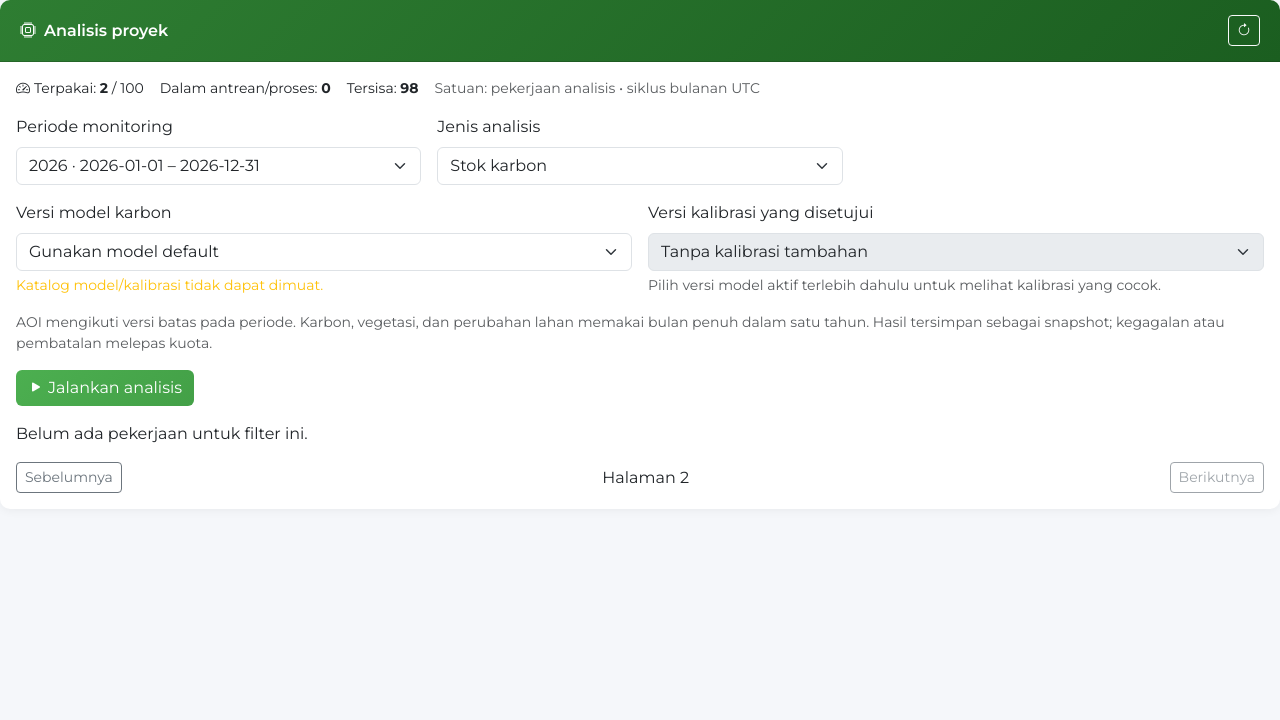
Test: recovers from an empty trailing page and localizes job status
Expected: the text "Belum ada pekerjaan untuk filter ini." is shown, [16,424,308,443]
Expected: the button "Berikutnya" is disabled, [1170,462,1264,493]
Click the button "Sebelumnya": (69, 478) [16,462,122,493]
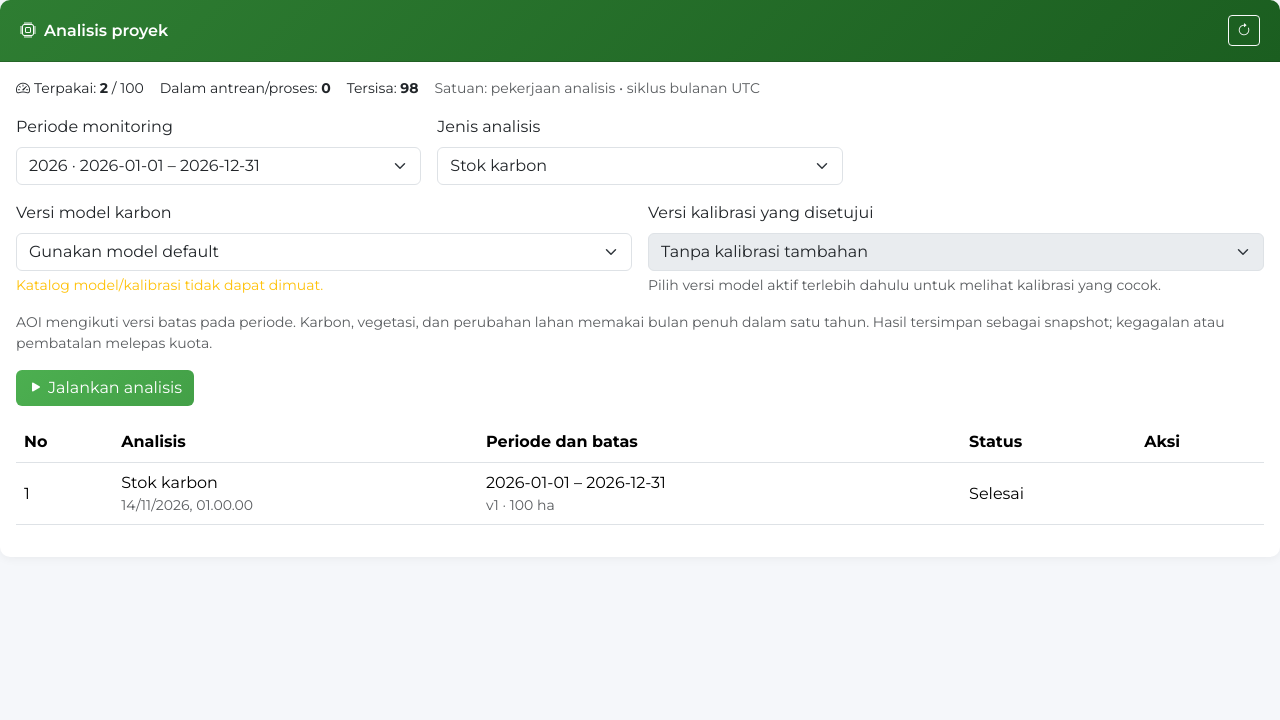
Expected: the text "Selesai" is shown, [961,462,1136,524]
